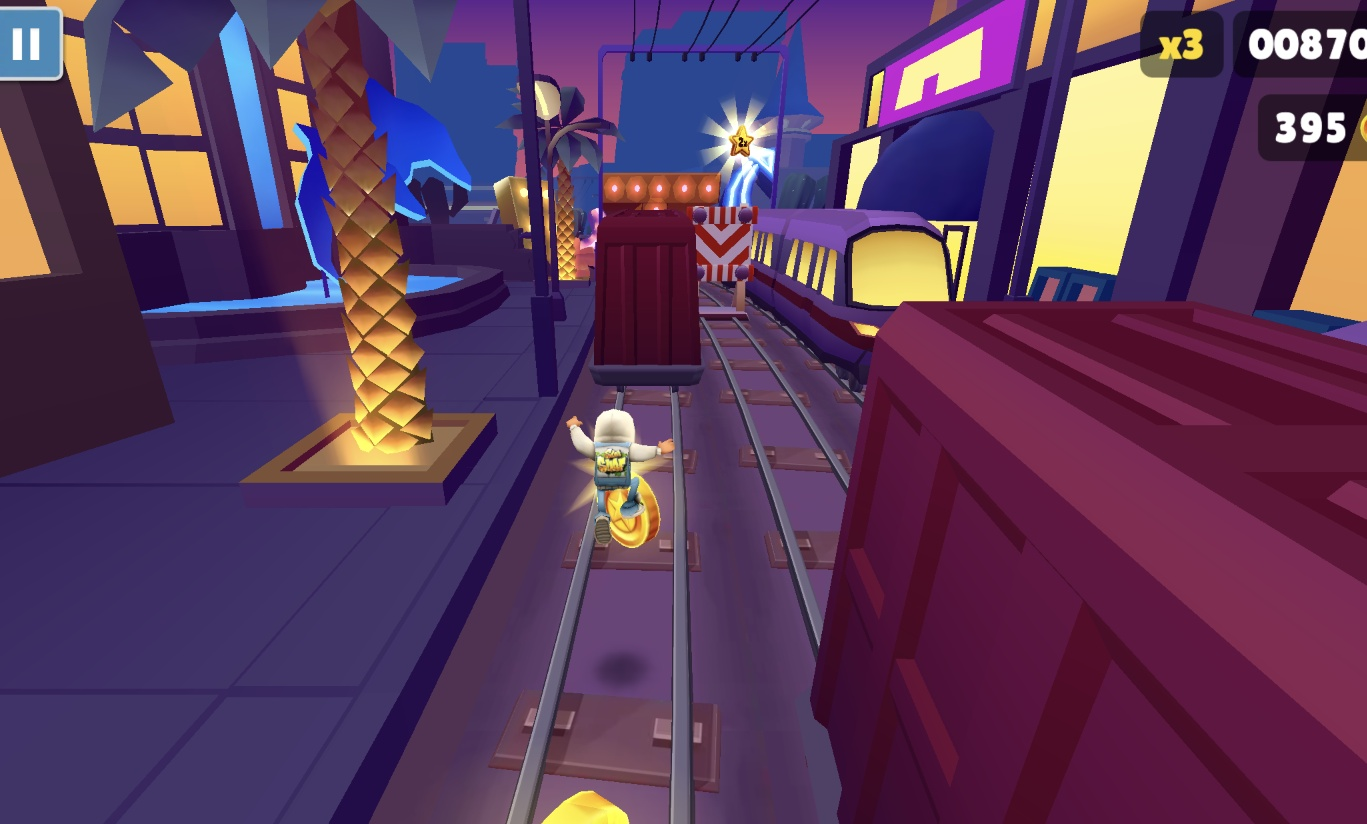overhead_barrier: (690, 204, 755, 323)
train: (812, 301, 1367, 824), (735, 209, 955, 390), (587, 210, 705, 390)
